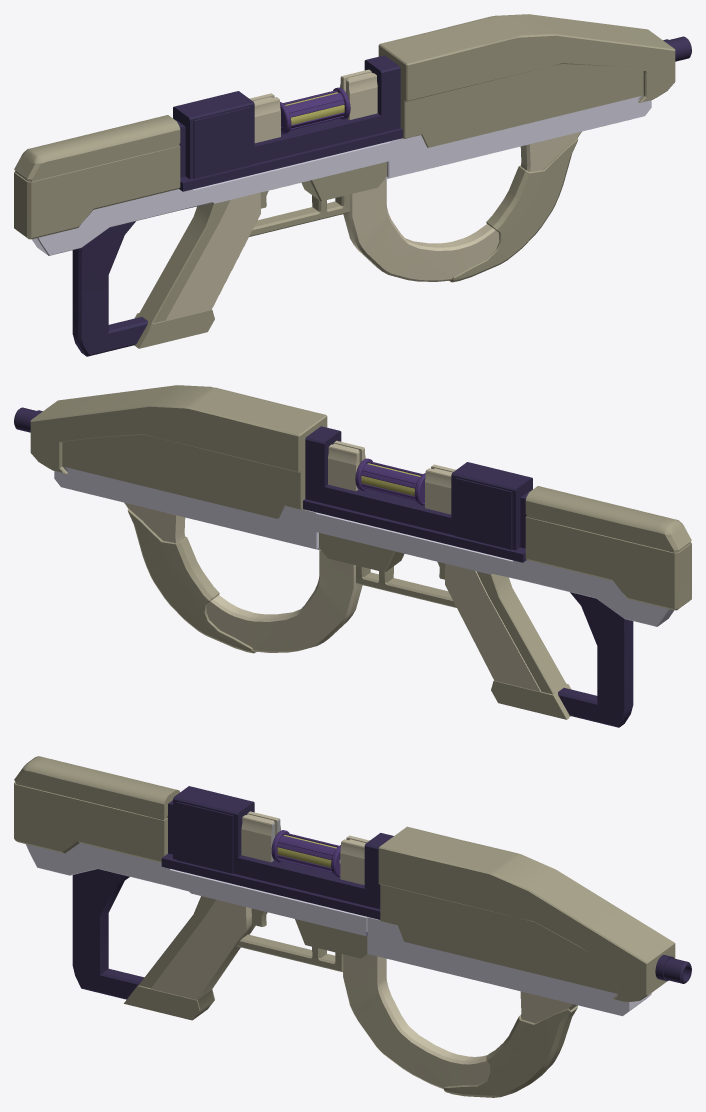
Rendered from SM_sgxFall_Sub_Auto_Blaster-object_02.fbx.
3 renders of one model, top to bottom at view 1: azimuth 30°, elevation 25°; view 2: azimuth 150°, elevation 25°; view 3: azimuth 330°, elevation 25°, orthographic.
Parts seen in each view (by area): view 1: sgxFall_Smg; view 2: sgxFall_Smg; view 3: sgxFall_Smg.
Part boxes in pixels (x1=…): sgxFall_Smg: x1=14, y1=14, x2=691, y2=356; sgxFall_Smg: x1=14, y1=385, x2=691, y2=727; sgxFall_Smg: x1=14, y1=756, x2=691, y2=1097.
Bounding box in the file's own units: 32.87 × 11.32 × 2.44.
